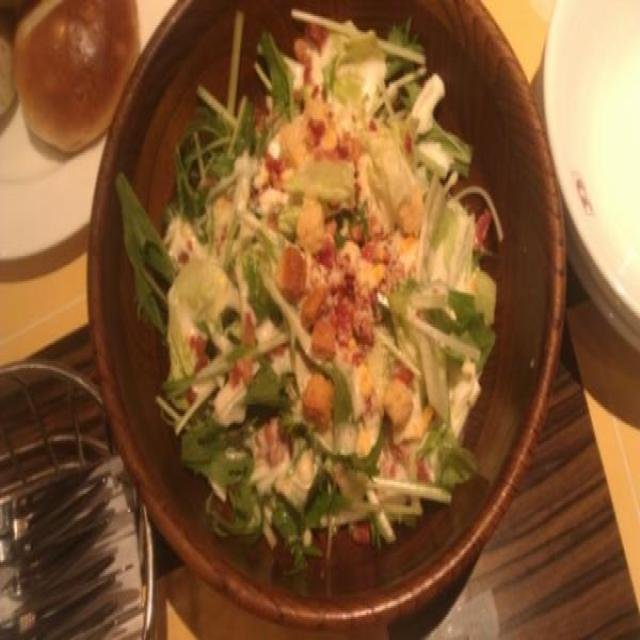Green Salad: (169, 21, 491, 549)
